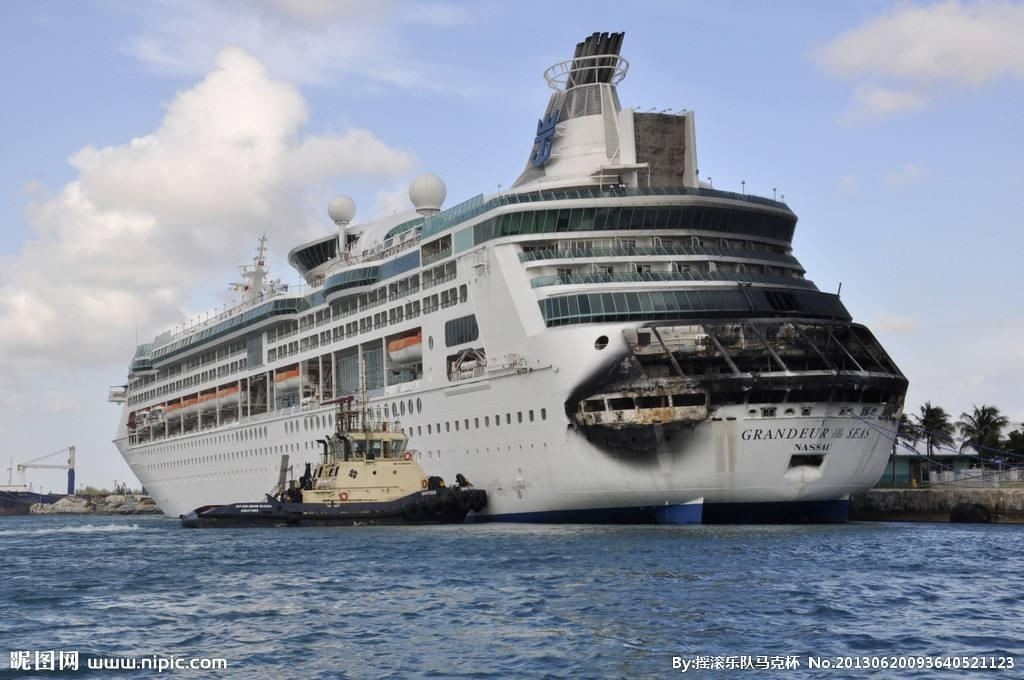otherboat: (166, 403, 489, 541)
youlun: (104, 120, 883, 526)
